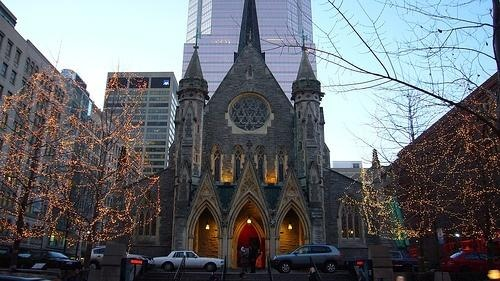car: (270, 244, 344, 275), (349, 249, 425, 273), (151, 251, 225, 274), (86, 247, 150, 272), (438, 249, 500, 274), (19, 249, 80, 271)
